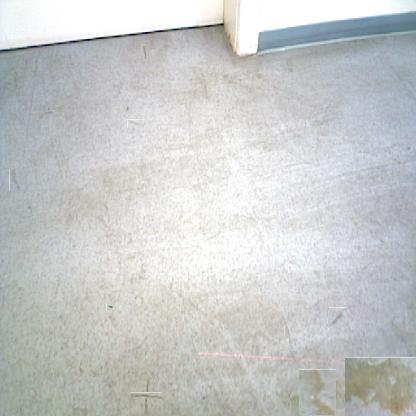liquid: (344, 357, 416, 416), (294, 373, 340, 416)
mark: (137, 386, 156, 406), (328, 308, 347, 326), (9, 169, 20, 191), (284, 322, 292, 346), (129, 117, 142, 130), (141, 44, 147, 60), (45, 107, 54, 116), (405, 144, 413, 152), (107, 304, 115, 311), (124, 105, 130, 113)
